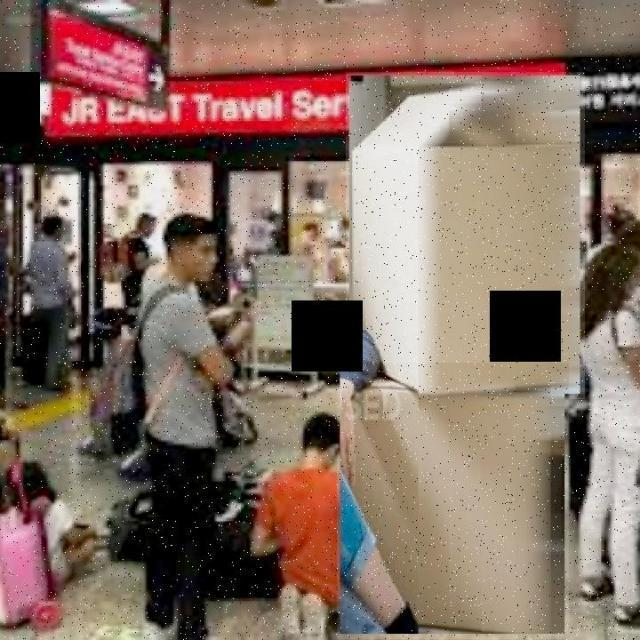box: (346, 72, 585, 399), (337, 363, 569, 639)
